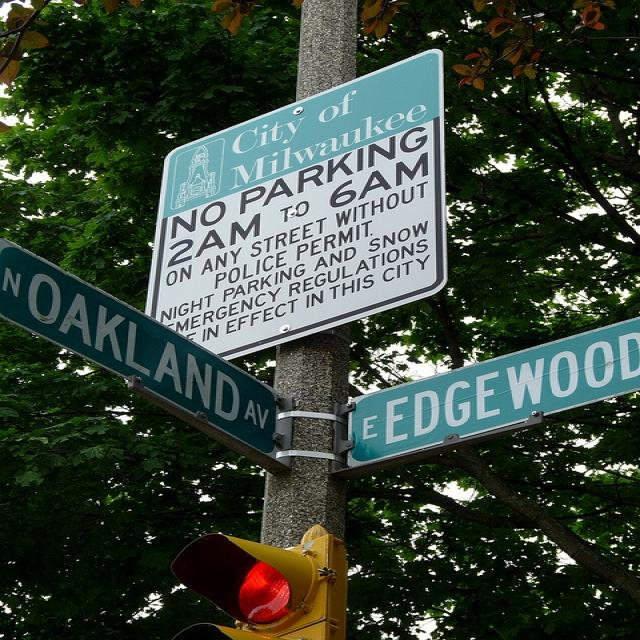pole: (261, 1, 392, 636)
